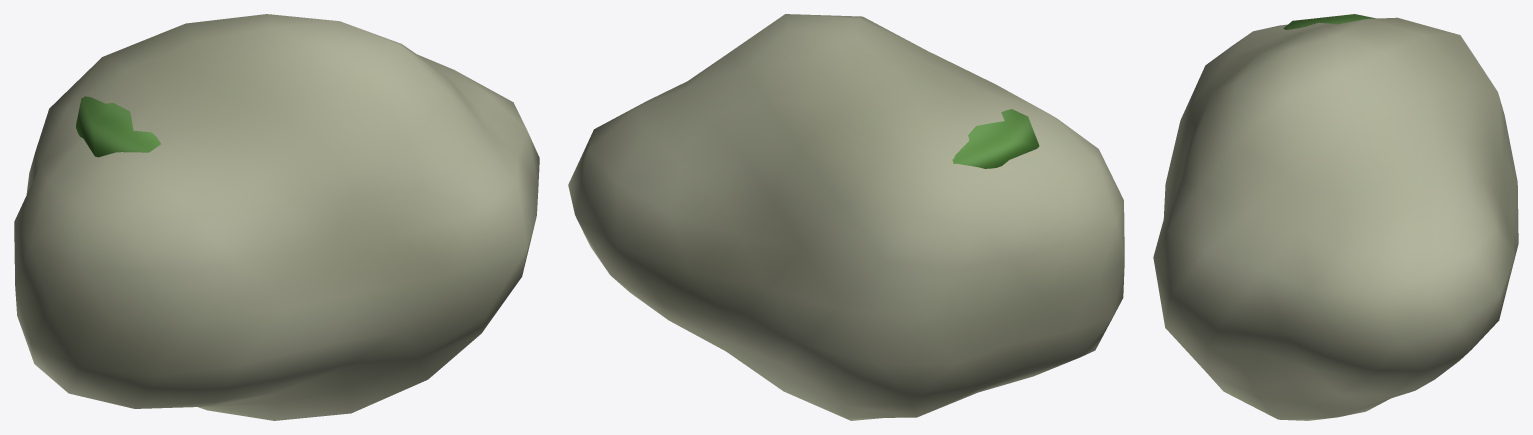
File: garden_boulder_b.glb
3 renders of one model, left to right at view 1: azimuth 30°, elevation 25°; view 2: azimuth 150°, elevation 25°; view 3: azimuth 270°, elevation 25°, orthographic. The views are drawn at different scales.
Visible parts, largest first — view 1: garden_boulder_b.002; view 2: garden_boulder_b.002; view 3: garden_boulder_b.002.
Boxes of the visible parts, x1,y1,x2,y2 form: garden_boulder_b.002: (14,14,539,420); garden_boulder_b.002: (568,14,1124,420); garden_boulder_b.002: (1153,14,1518,420).
Bounding box in the file's own units: 3.37 × 2.38 × 2.15.
Materials: 1 (1 with a texture image).
